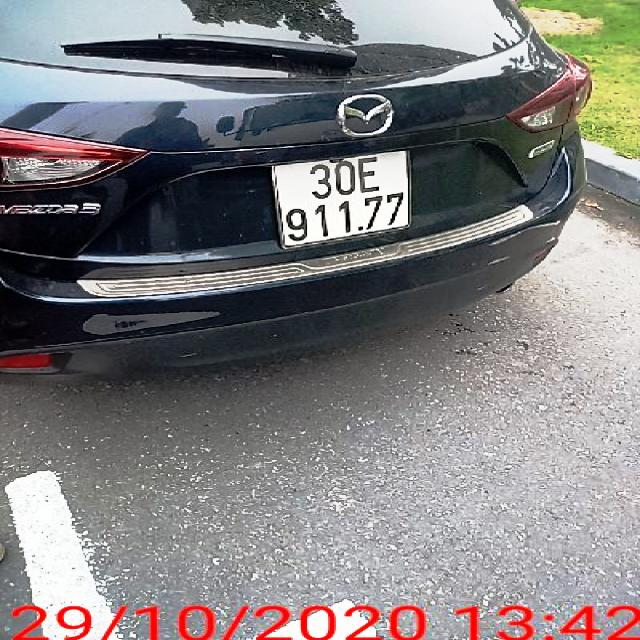license_plate: (273, 152, 412, 248)
